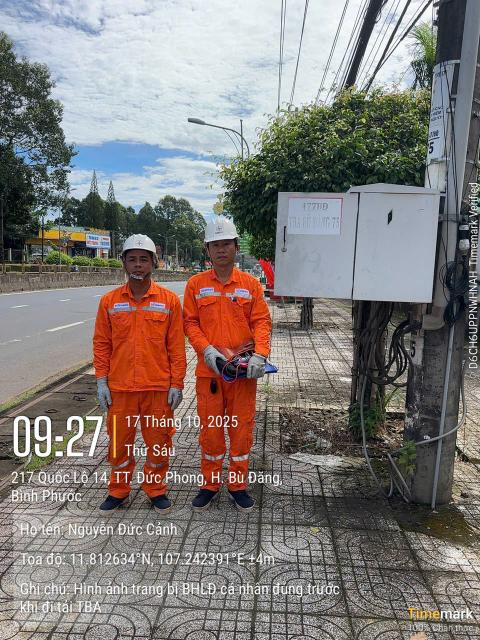gloves: (88, 371, 114, 414), (237, 350, 269, 382), (197, 344, 228, 373), (157, 389, 191, 410)
helmet: (202, 204, 243, 249), (112, 226, 160, 262)
shoes: (133, 486, 177, 517), (182, 485, 220, 513), (93, 492, 131, 517), (220, 489, 256, 512)
